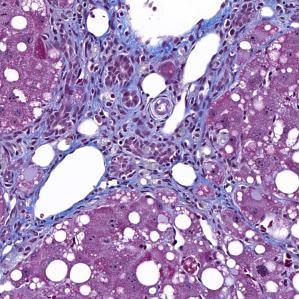fibrosis: (59, 38, 181, 114), (196, 2, 299, 79), (99, 133, 210, 204), (0, 126, 82, 184), (179, 174, 250, 227), (0, 198, 51, 255)
